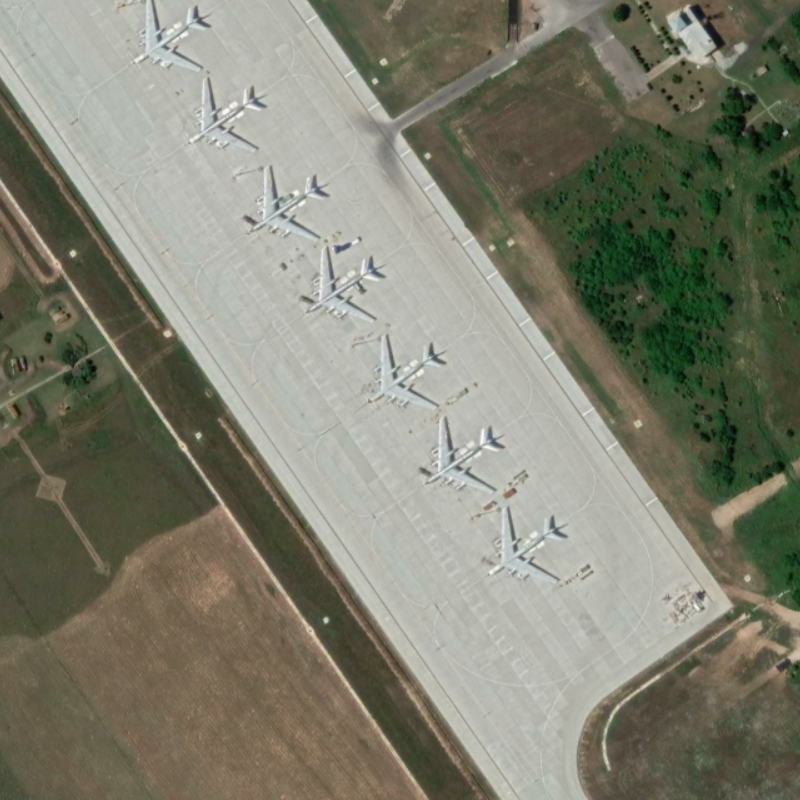A17: (299, 244, 384, 326), (419, 415, 504, 497), (181, 73, 265, 155), (486, 504, 570, 585), (242, 163, 328, 242), (362, 333, 448, 412), (124, 1, 214, 73)
